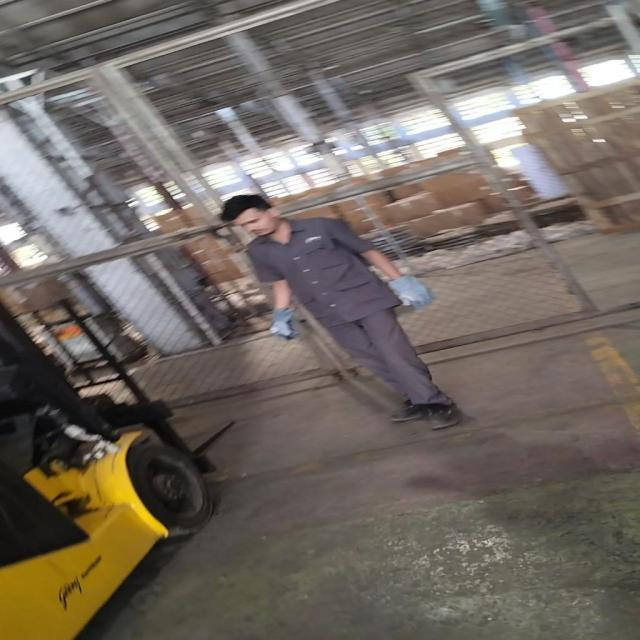Gloves-Detection: (386, 274, 438, 314), (268, 306, 294, 342)
